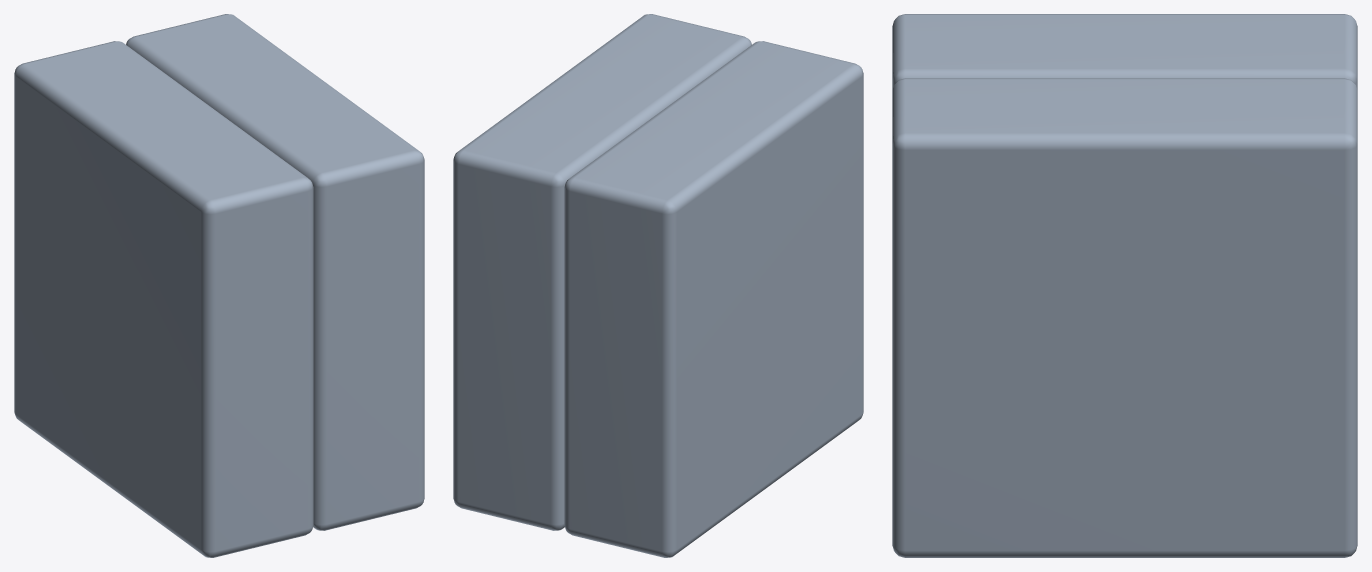
Rendered from AFJ_Gate_Metal_Joints.fbx.
3 views of the same model, side by side, from view 1: azimuth 30°, elevation 25°; view 2: azimuth 150°, elevation 25°; view 3: azimuth 270°, elevation 25° (orthographic). The views are drawn at different scales.
Visible parts, largest first — view 1: Gate_Metal_Joint_Left, Gate_Metal_Joint_Right; view 2: Gate_Metal_Joint_Left, Gate_Metal_Joint_Right; view 3: Gate_Metal_Joint_Right, Gate_Metal_Joint_Left.
Part boxes in pixels (<box>): Gate_Metal_Joint_Left: <box>14,41,313,557</box>; Gate_Metal_Joint_Right: <box>126,14,424,530</box>; Gate_Metal_Joint_Left: <box>564,41,863,557</box>; Gate_Metal_Joint_Right: <box>453,14,751,530</box>; Gate_Metal_Joint_Right: <box>892,78,1357,557</box>; Gate_Metal_Joint_Left: <box>892,14,1357,89</box>.
Size of the model in its own units: 14 by 21.5 by 21.4.
